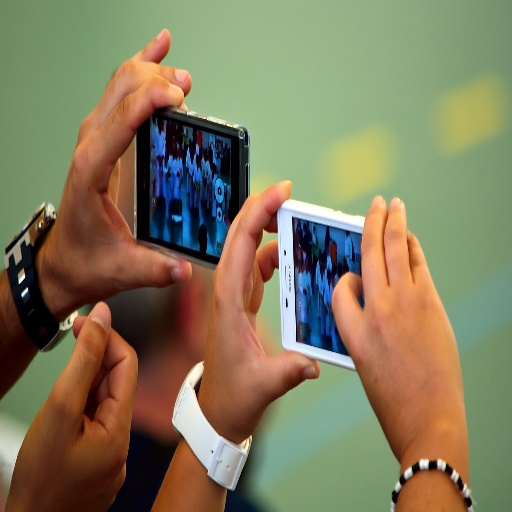hand: (42, 25, 192, 302), (329, 194, 470, 458), (205, 180, 320, 444), (11, 298, 138, 511)
